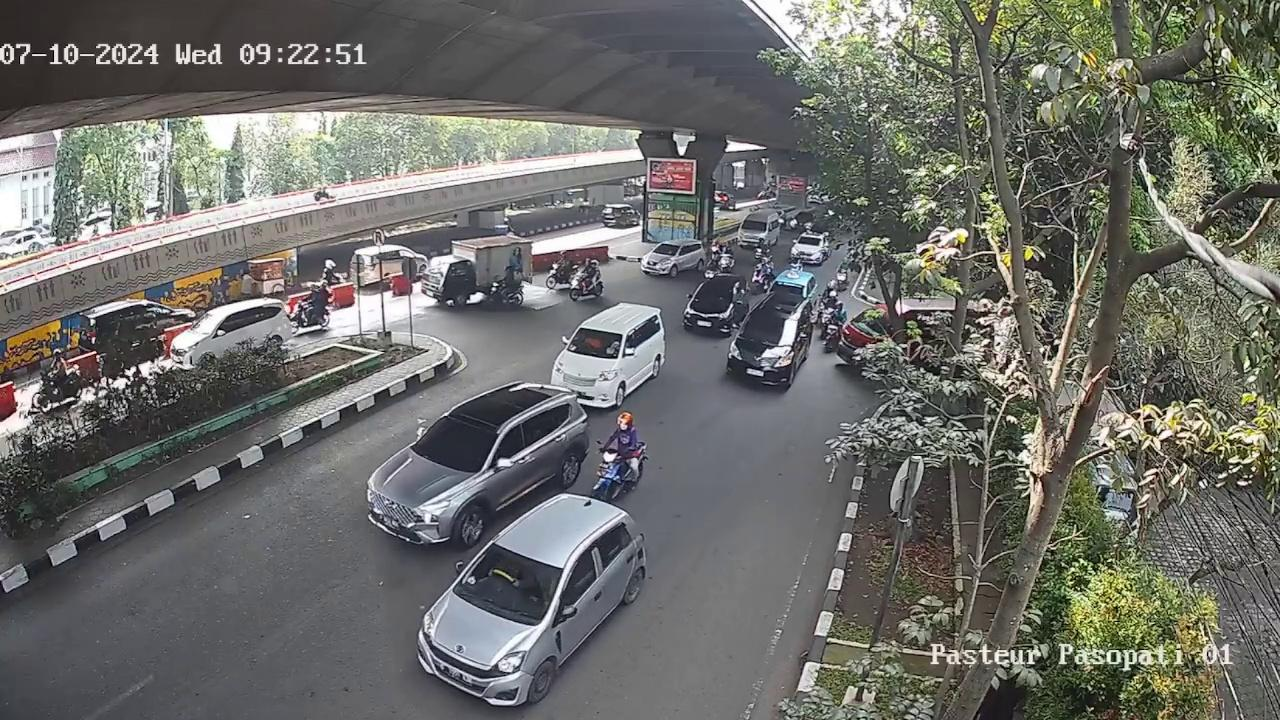tidak-pakai: (583, 333, 606, 351)
windshield: (453, 545, 564, 613), (415, 417, 498, 468), (742, 309, 800, 343), (565, 324, 623, 357), (696, 282, 730, 305)
